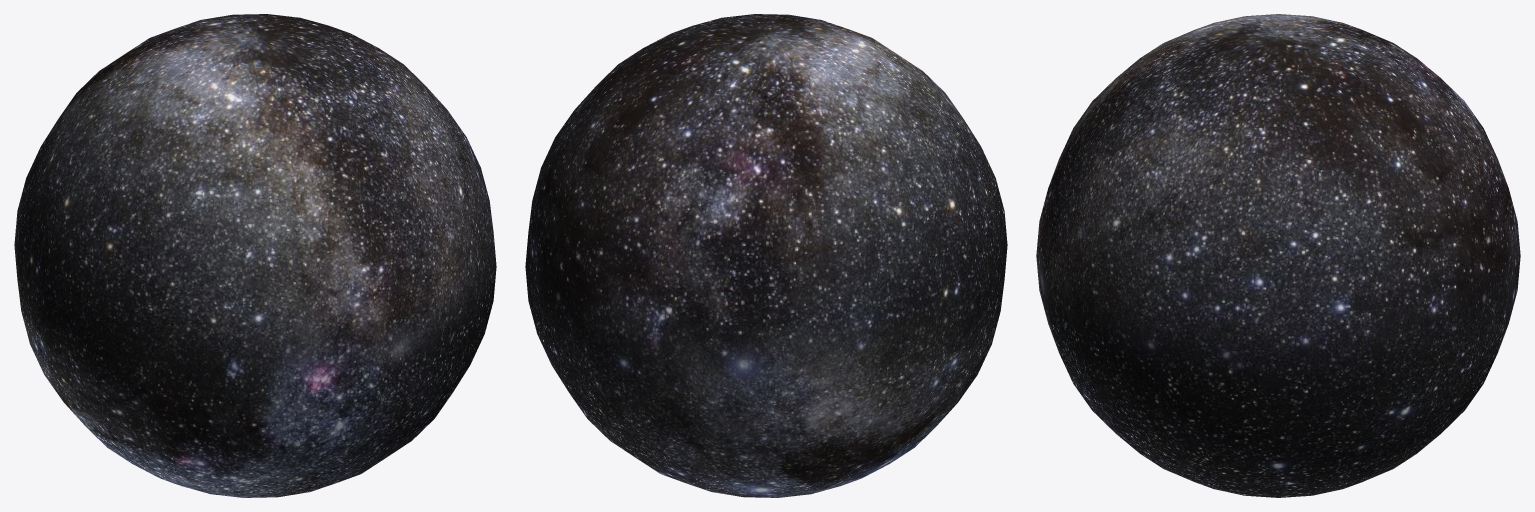
The model's file is invaderscene5.obj.
3 renders of one model, left to right at view 1: azimuth 30°, elevation 25°; view 2: azimuth 150°, elevation 25°; view 3: azimuth 270°, elevation 25°, orthographic.
Visible parts, largest first — view 1: spacesphere; view 2: spacesphere; view 3: spacesphere.
Part boxes in pixels (left/top/right/bottom): spacesphere: left=14, top=14, right=496, bottom=497; spacesphere: left=525, top=14, right=1007, bottom=497; spacesphere: left=1036, top=14, right=1520, bottom=497.
Size of the model in its own units: 200 by 200 by 200.
Materials: 50 (44 with a texture image).
